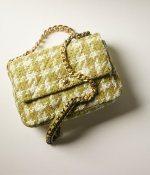channel: (12, 34, 125, 123), (58, 42, 76, 74), (55, 72, 78, 94)
